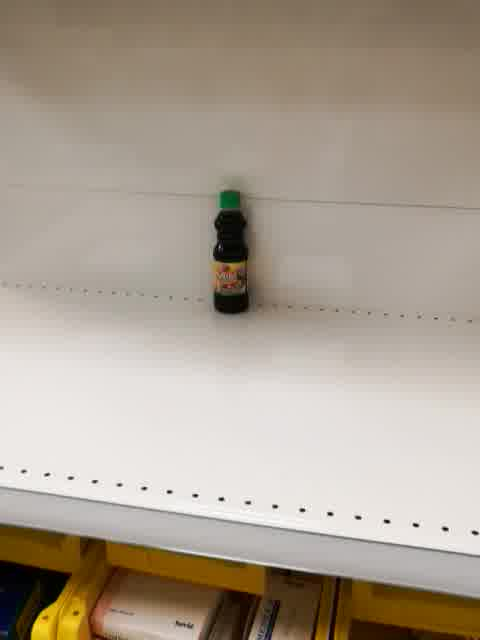cookingoil: (211, 188, 251, 317)
